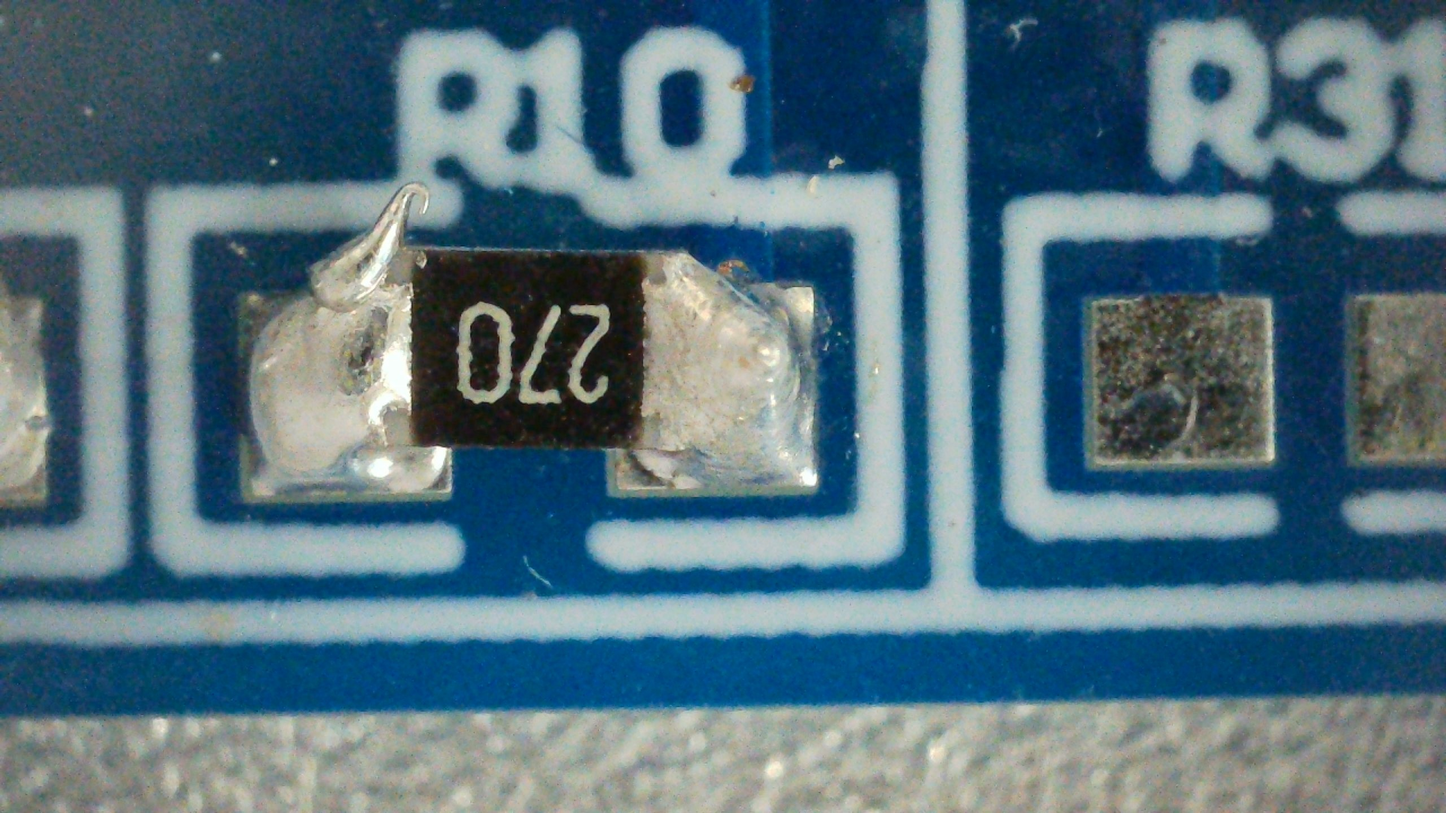NG: (239, 187, 816, 498)
